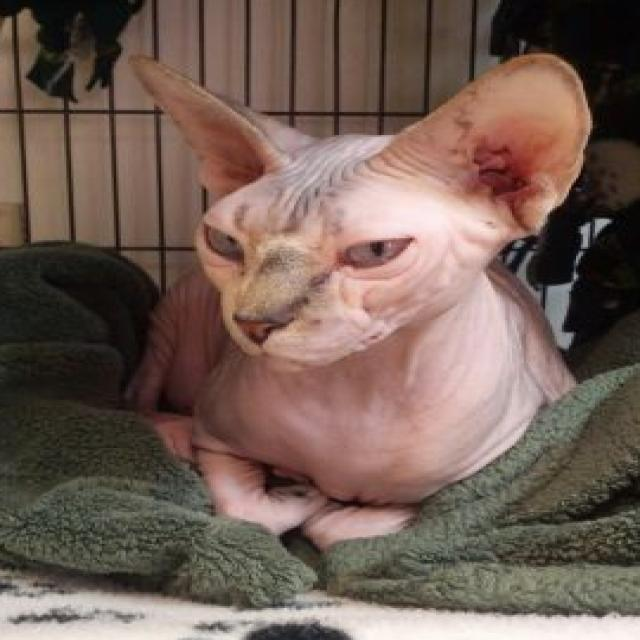Sphynx: (117, 46, 601, 548)
